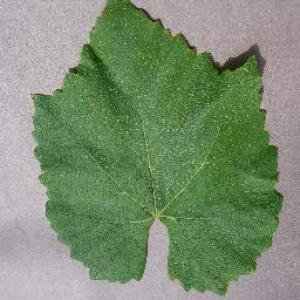Folha: (29, 0, 284, 298)
